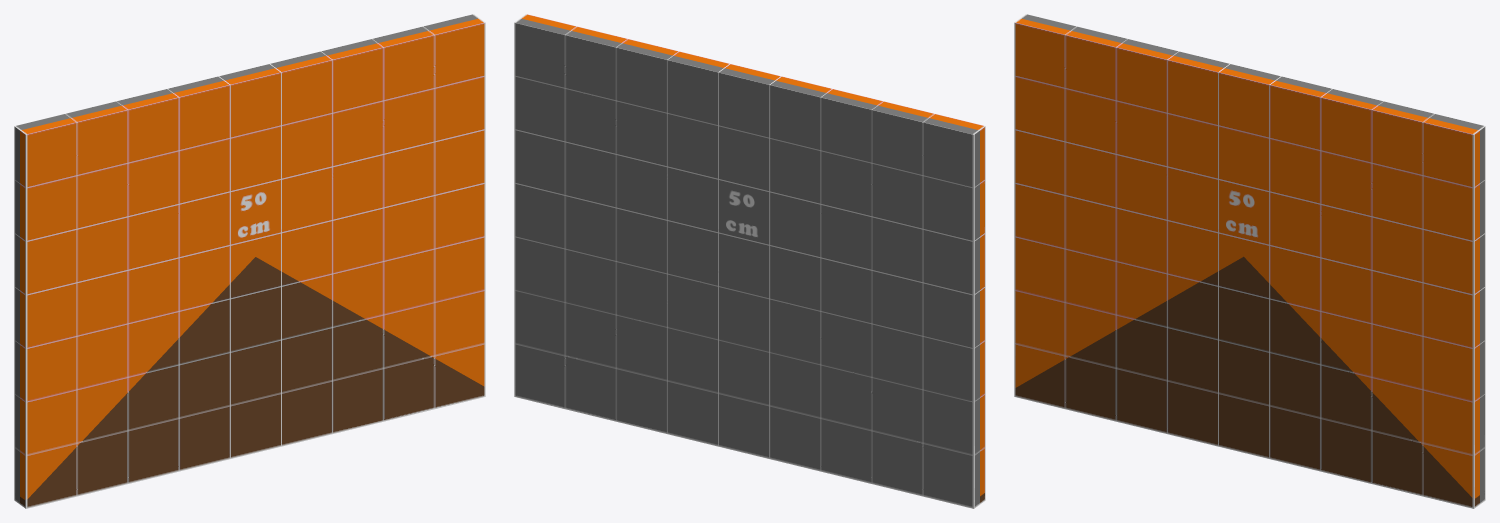
File: M01Wall01_4.FBX
3 renders of one model, left to right at view 1: azimuth 30°, elevation 25°; view 2: azimuth 150°, elevation 25°; view 3: azimuth 330°, elevation 25°, orthographic.
Visible parts, largest first — view 1: M01Wall01_4; view 2: M01Wall01_4; view 3: M01Wall01_4.
Boxes of the visible parts, <box> form: M01Wall01_4: <box>14,14,485,508</box>; M01Wall01_4: <box>514,14,985,508</box>; M01Wall01_4: <box>1014,14,1485,508</box>.
Size of what is drawn, in the model's own units: 4.5 by 3.5 by 0.2.
